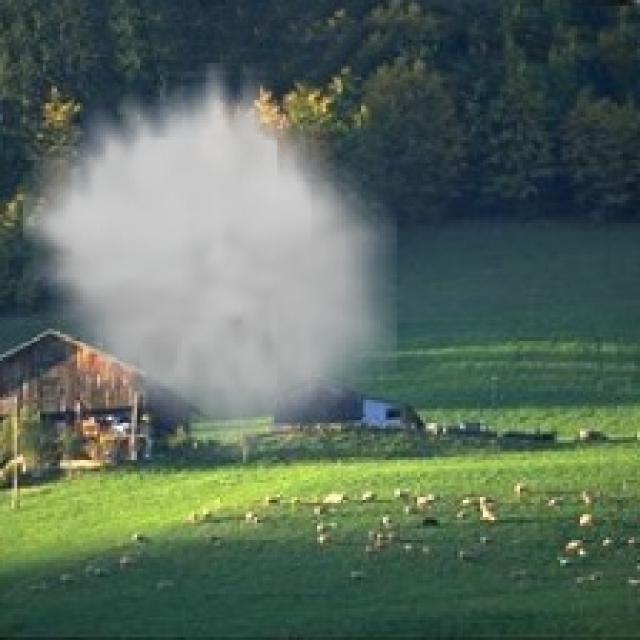smoke: (23, 63, 397, 460)
